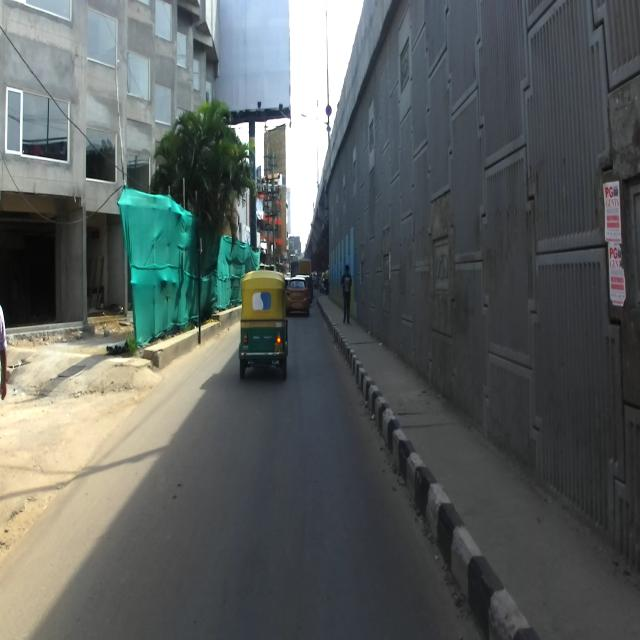auto ahead at: (236, 269, 288, 386)
person ahead at: (334, 261, 356, 323)
